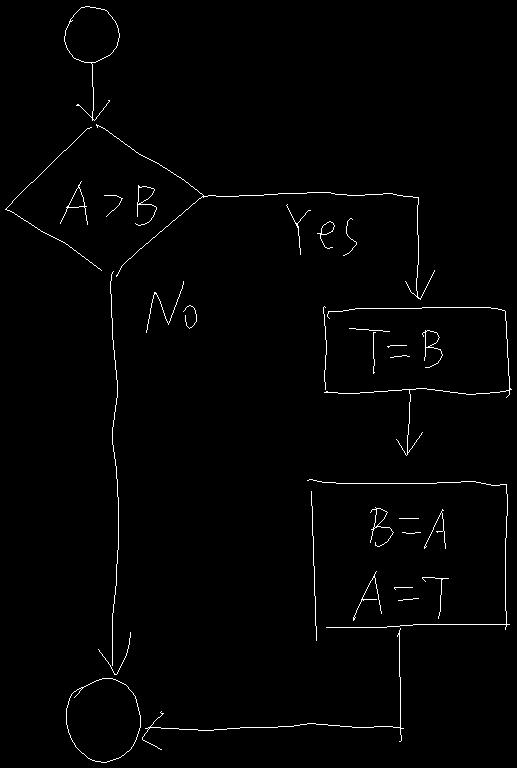arrow: (142, 628, 403, 749), (203, 192, 434, 299), (98, 271, 130, 674), (76, 62, 109, 120), (396, 390, 422, 455)
connection: (66, 678, 140, 762), (64, 6, 119, 62)
decision: (5, 124, 203, 276)
process: (307, 479, 509, 640), (323, 306, 511, 397)
text: (353, 507, 448, 620), (60, 181, 156, 225), (349, 328, 442, 373), (286, 204, 356, 255), (146, 281, 196, 332)
